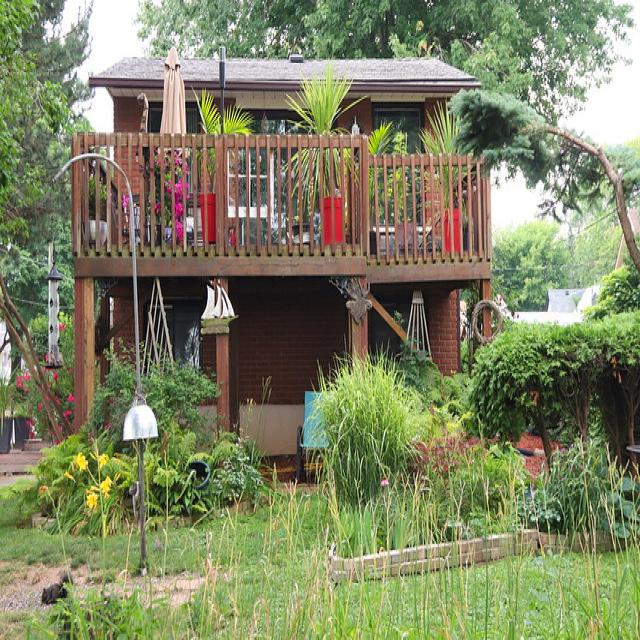building: (70, 48, 504, 504)
